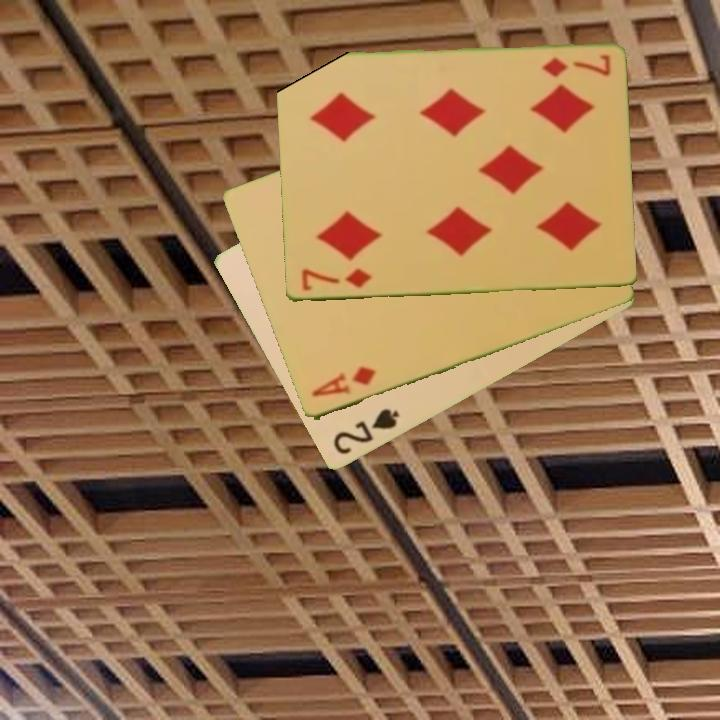2s: (329, 405, 402, 459)
7d: (297, 265, 374, 295), (538, 52, 613, 80)
Ad: (308, 363, 379, 401)
